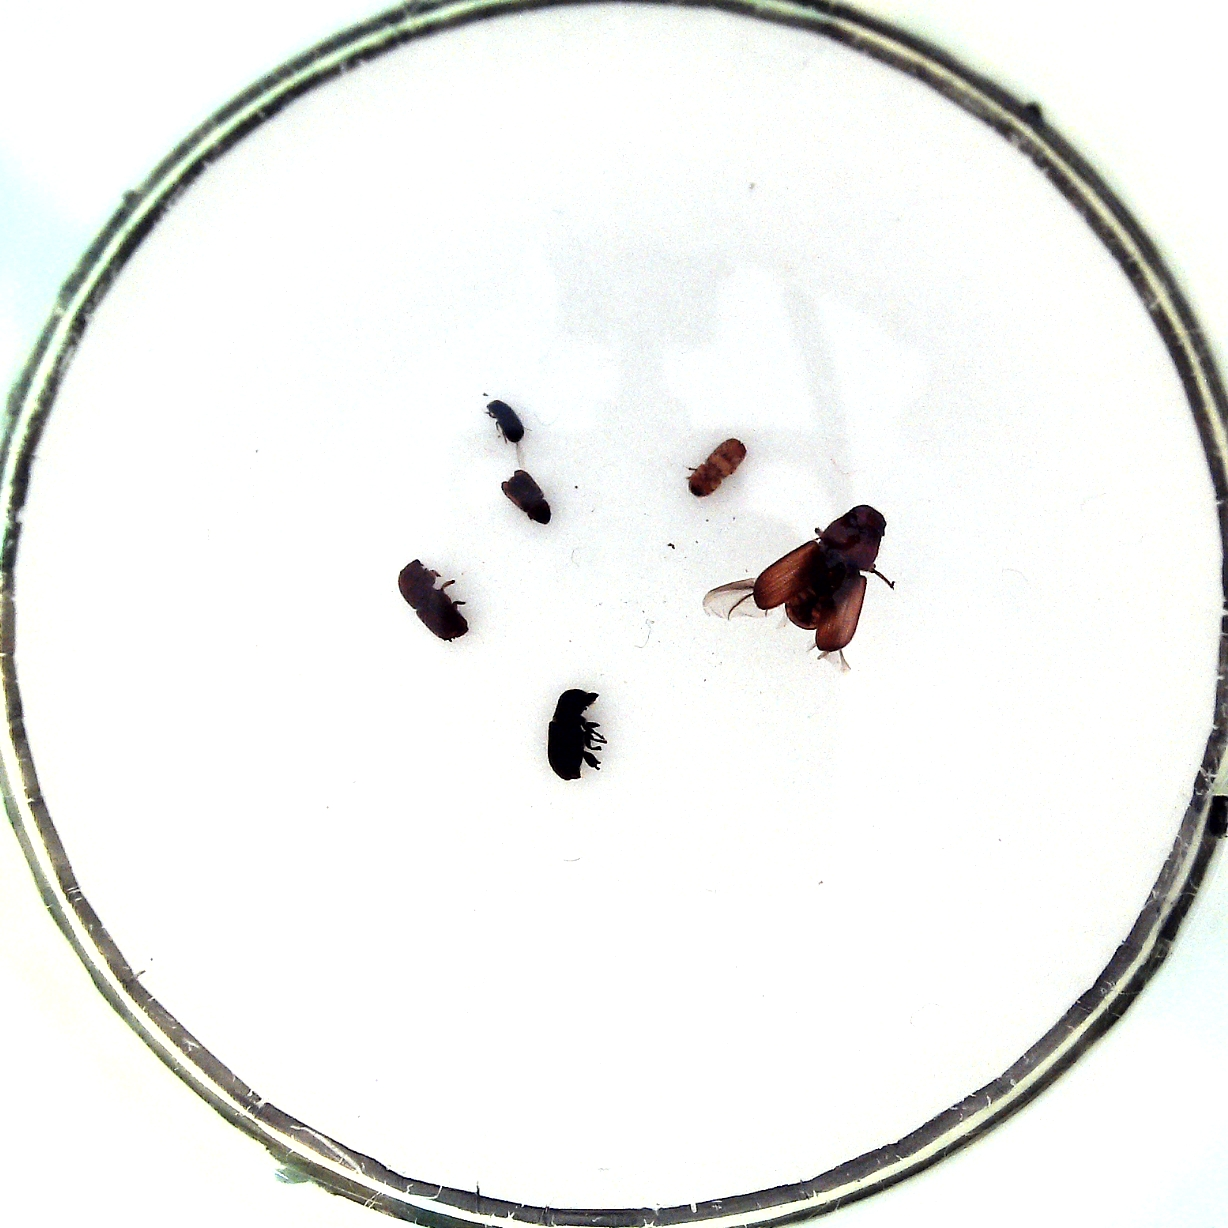Leconte: (753, 504, 888, 653)
acuminatus: (486, 401, 524, 443)
armandi: (547, 688, 599, 780)
coleoptera: (688, 439, 746, 498), (502, 470, 551, 525)
linnaeus: (398, 559, 469, 642)
